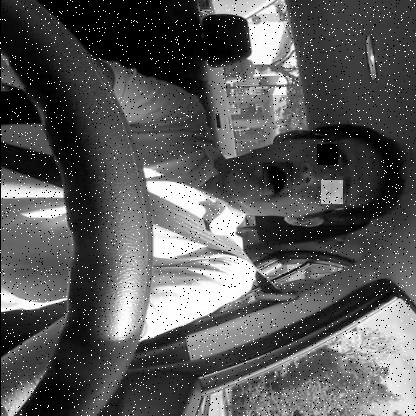seatbelt: (0, 104, 413, 310)
